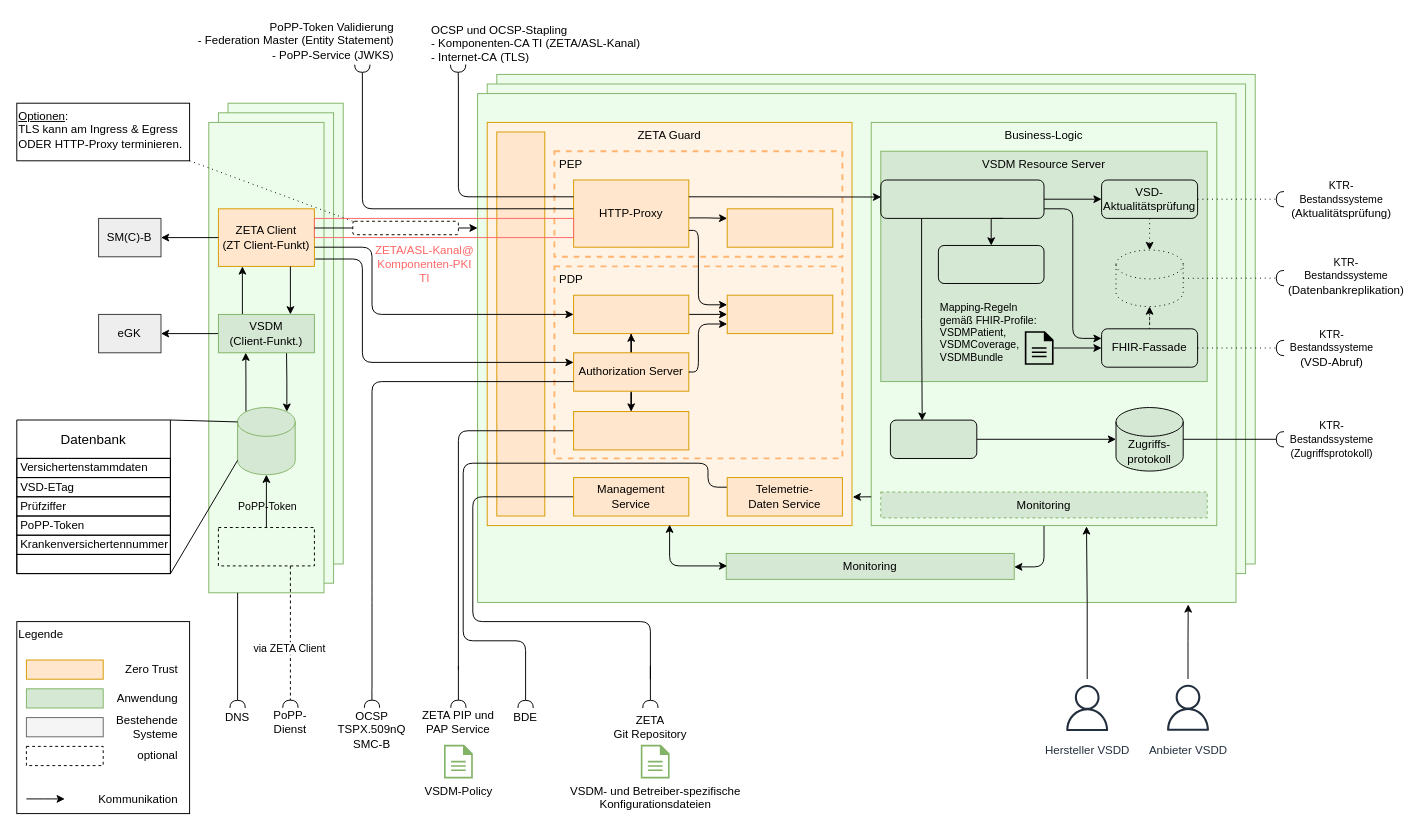
This 1426x830 diagram has some shape labels left out. Here are the shapes that lost their labels. From the top down, the centre of each, then its label:
At [962,198]: "VSDService -API".
At [405,227]: "TLS@Internet-PKI".
At [779,227]: "PEP Datenbank".
At [990,264]: "Erstellung Prüfzifffer".
At [1149,278]: "VSD-DB".
At [520,323]: "Ingress und Egress".
At [631,314]: "Client Registry".
At [779,314]: "PDP Datenbank".
At [266,357]: "Clientsystem".
At [856,347]: "Versichertenstammdatendienst".
At [266,441]: "DB".
At [631,430]: "Policy Engine".
At [933,438]: "Zugriffs-protokollierung".
At [93,563]: "Institutionskennung KTR".
At [265,546]: "PoPP (Client-Funkt.)".
